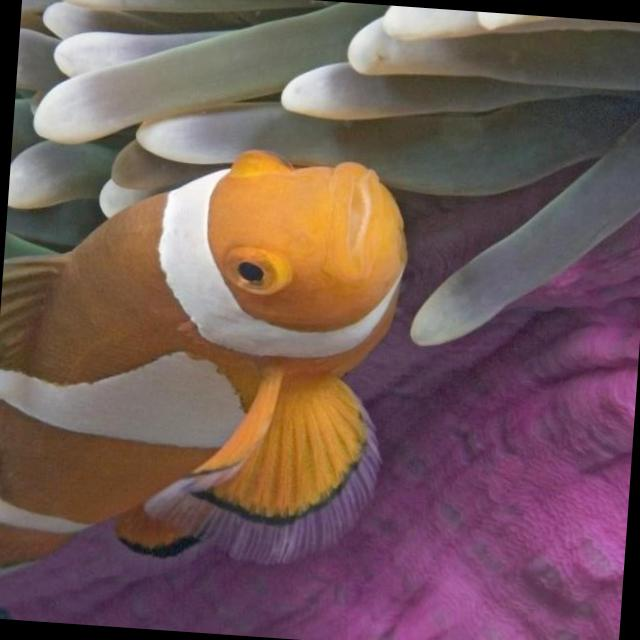ClownFish: (0, 129, 414, 608)
